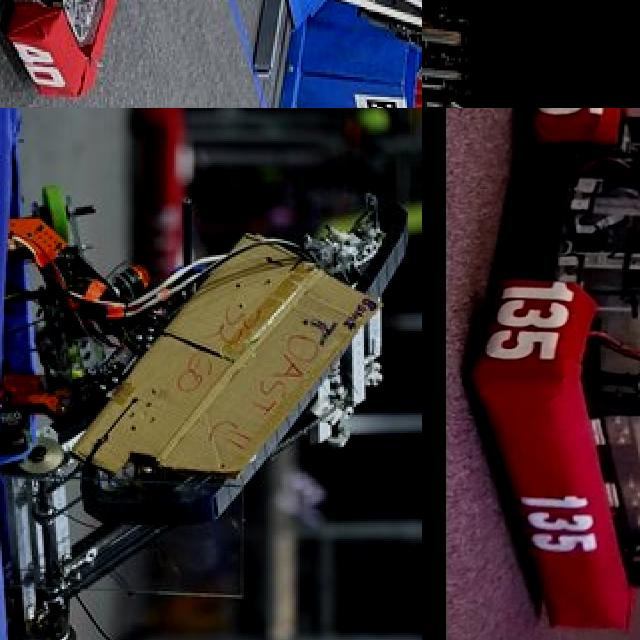FRC-Robots: (0, 108, 422, 640), (455, 108, 640, 640), (0, 0, 422, 97), (422, 37, 640, 108)
